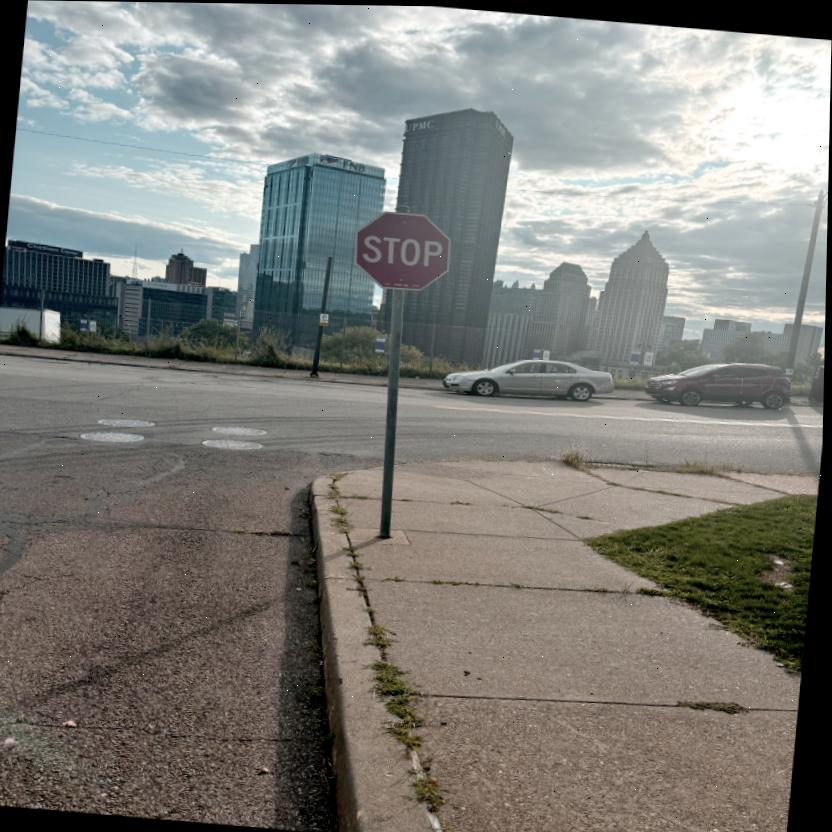Pole: (372, 287, 415, 537)
Sign: (351, 208, 455, 293)
